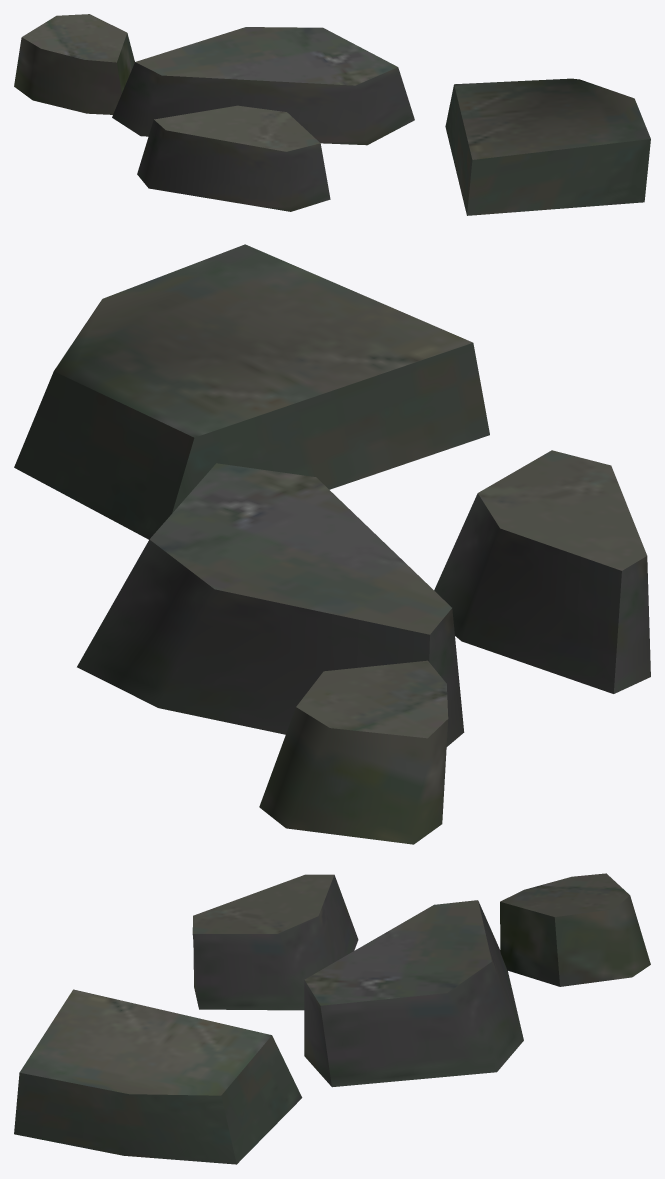
File: h5_suishitou_03.FBX
3 views of the same model, one above another, from view 1: azimuth 30°, elevation 25°; view 2: azimuth 150°, elevation 25°; view 3: azimuth 270°, elevation 25° (orthographic). The views are drawn at different scales.
Parts seen in each view (by area): view 1: h5_suishitou_03; view 2: h5_suishitou_03; view 3: h5_suishitou_03.
Boxes of the visible parts, x1,y1,x2,y2 form: h5_suishitou_03: (14,14,650,215); h5_suishitou_03: (14,244,650,844); h5_suishitou_03: (14,873,650,1164).
Size of the model in its own units: 1.65 by 0.2731 by 2.02.
